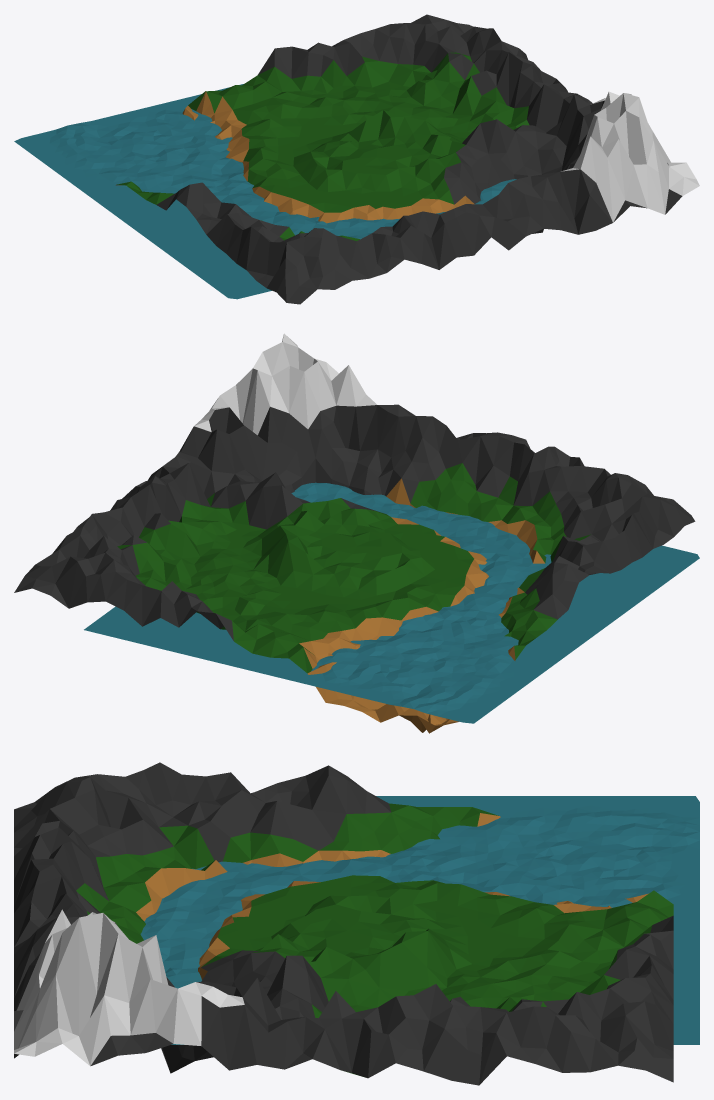
File: CONCEPT MAP.FBX
3 renders of one model, top to bottom at view 1: azimuth 30°, elevation 25°; view 2: azimuth 150°, elevation 25°; view 3: azimuth 270°, elevation 25°, orthographic. The views are drawn at different scales.
Parts seen in each view (by area): view 1: SKAŁY, PODSTAWA, Rectangle001, ŚNIEG, KORYTO; view 2: SKAŁY, PODSTAWA, Rectangle001, ŚNIEG, KORYTO; view 3: SKAŁY, PODSTAWA, Rectangle001, ŚNIEG, KORYTO.
Boxes of the visible parts, <box> form: SKAŁY: <box>156,14,682,304</box>; PODSTAWA: <box>117,52,529,241</box>; Rectangle001: <box>14,84,516,299</box>; ŚNIEG: <box>561,91,699,222</box>; KORYTO: <box>116,91,474,223</box>; SKAŁY: <box>14,404,695,640</box>; PODSTAWA: <box>117,463,590,673</box>; Rectangle001: <box>84,482,699,723</box>; ŚNIEG: <box>194,333,376,435</box>; KORYTO: <box>299,478,544,733</box>; SKAŁY: <box>14,762,673,1085</box>; PODSTAWA: <box>76,803,673,1076</box>; Rectangle001: <box>140,796,699,1044</box>; ŚNIEG: <box>14,909,244,1066</box>; KORYTO: <box>136,813,648,979</box>.
Size of the model in its own units: 424 by 136 by 409.
